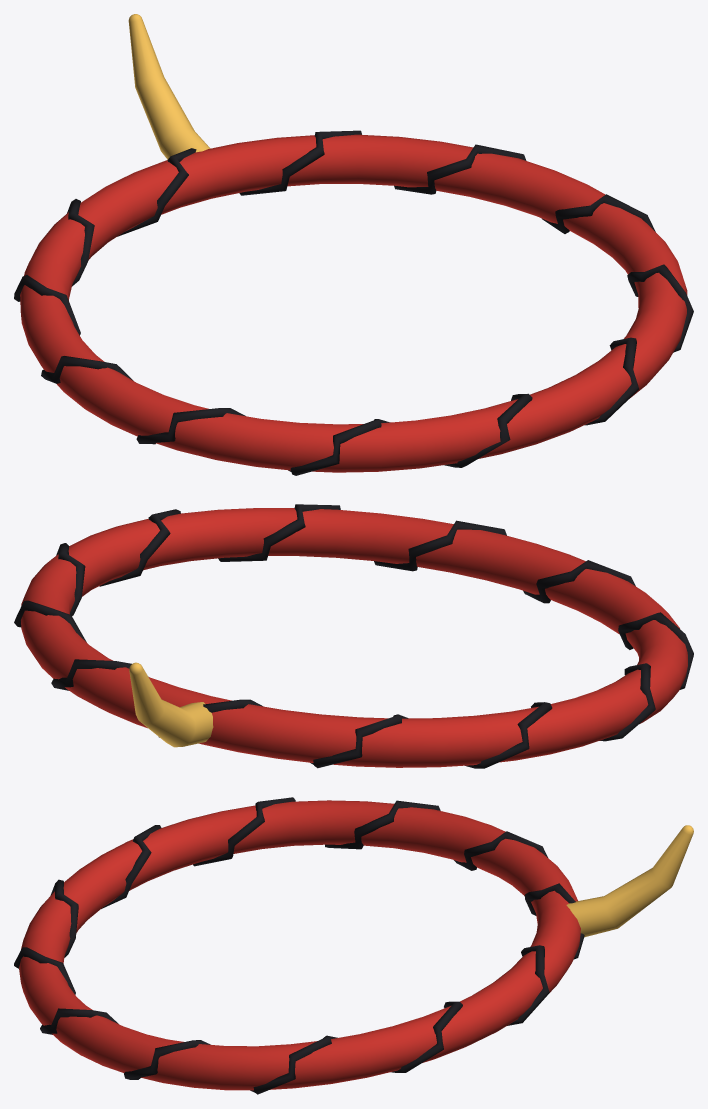
The model's file is hw_mongkol.glb.
3 renders of one model, top to bottom at view 1: azimuth 30°, elevation 25°; view 2: azimuth 150°, elevation 25°; view 3: azimuth 270°, elevation 25°, orthographic. The views are drawn at different scales.
Visible parts, largest first — view 1: hw_mongkol, hw_mongkol_cord, hw_mongkol_tail; view 2: hw_mongkol, hw_mongkol_cord, hw_mongkol_tail; view 3: hw_mongkol, hw_mongkol_cord, hw_mongkol_tail.
Boxes of the visible parts, x1=… form: hw_mongkol: x1=20, y1=134, x2=687, y2=472; hw_mongkol_cord: x1=14, y1=130, x2=693, y2=475; hw_mongkol_tail: x1=128, y1=14, x2=210, y2=159; hw_mongkol: x1=21, y1=508, x2=687, y2=767; hw_mongkol_cord: x1=14, y1=504, x2=693, y2=768; hw_mongkol_tail: x1=129, y1=662, x2=213, y2=747; hw_mongkol: x1=19, y1=800, x2=580, y2=1090; hw_mongkol_cord: x1=14, y1=797, x2=584, y2=1094; hw_mongkol_tail: x1=566, y1=825, x2=693, y2=937.
Bounding box in the file's own units: 0.987 × 0.2862 × 1.07.
